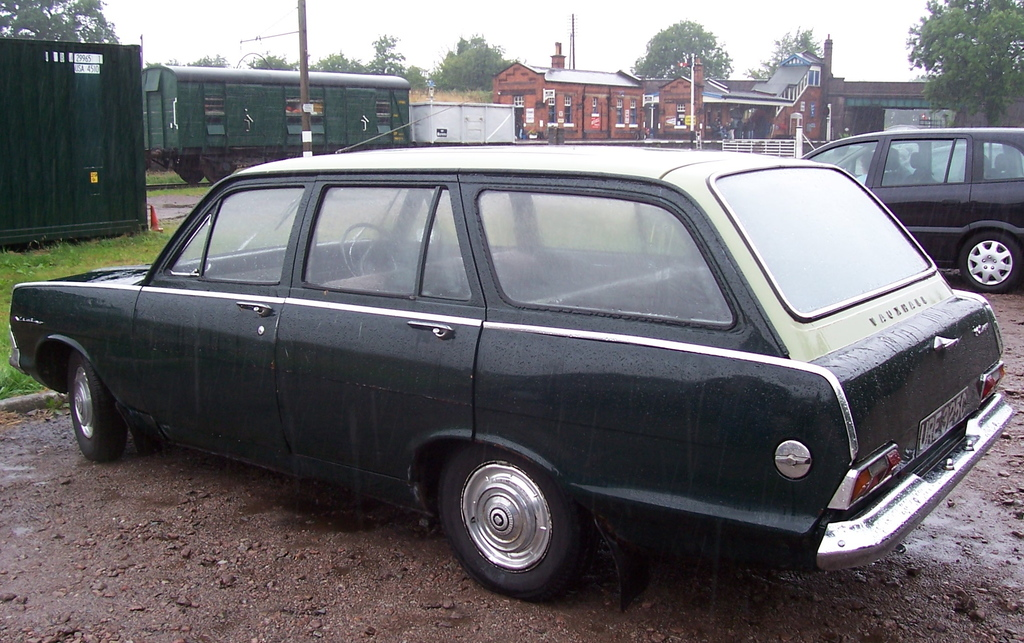mobil: (47, 160, 1001, 593)
